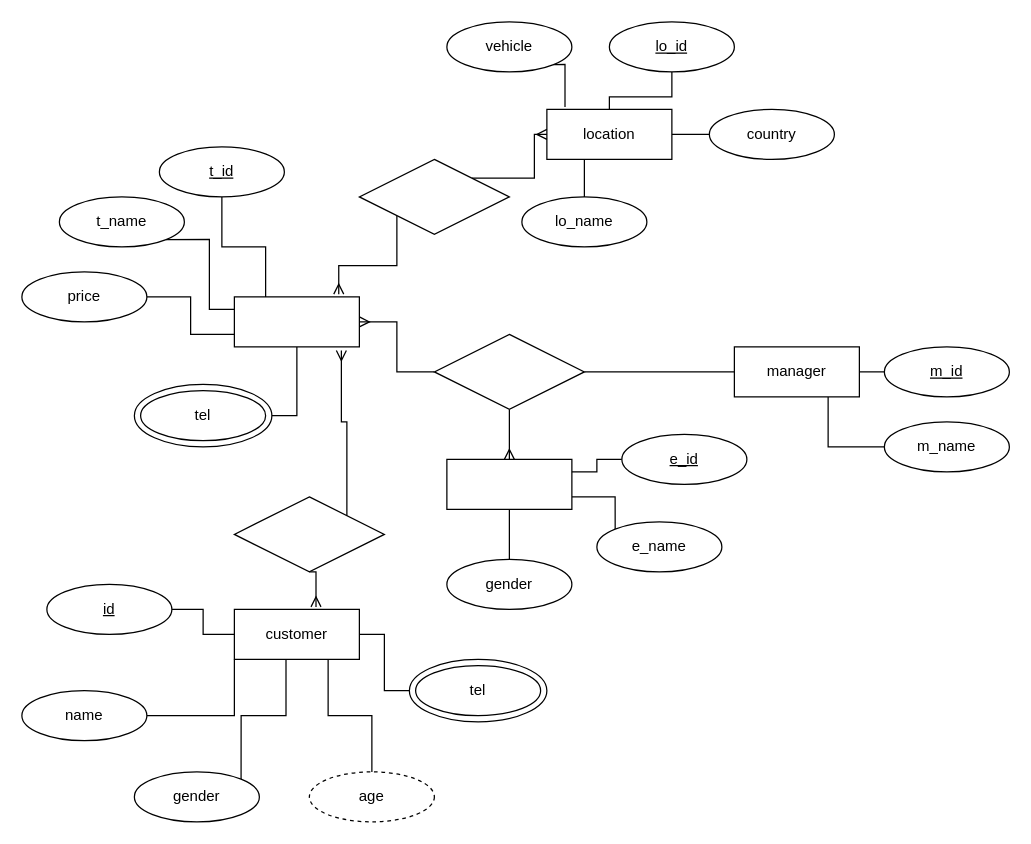
This 1031x844 diagram has some shape labels left out. Here are the shapes that lost their labels. From the top down, the centre of each, then its label:
At (x=433, y=196): "travel_to".
At (x=296, y=321): "tour_info".
At (x=508, y=371): "work on".
At (x=509, y=483): "employer".
At (x=308, y=534): "sign in".
